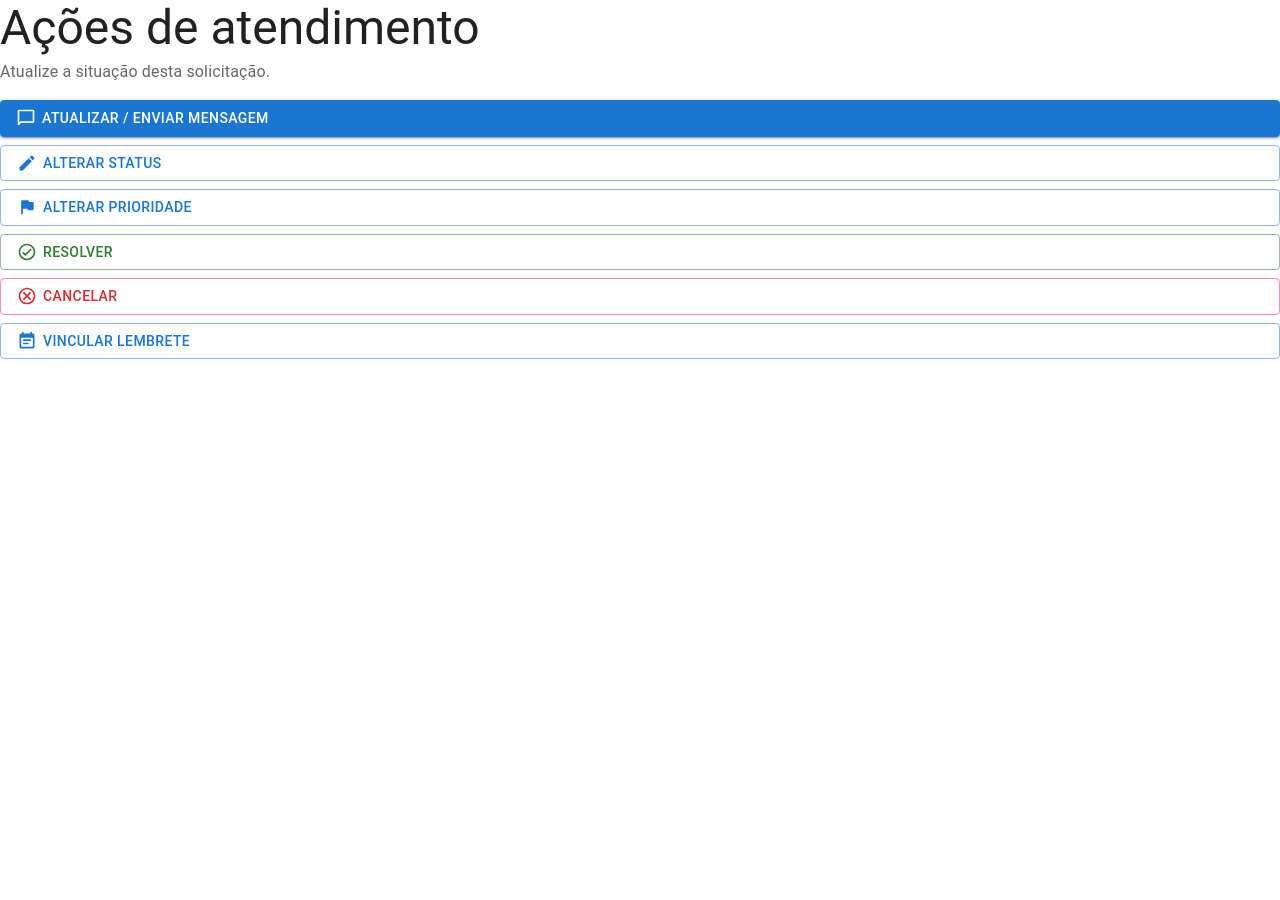
RequestManagementActions AI preview › surfaces a conflict and does not report a successful update
Click the button "Cancelar" at [80, 296], box [0,278,1279,314]
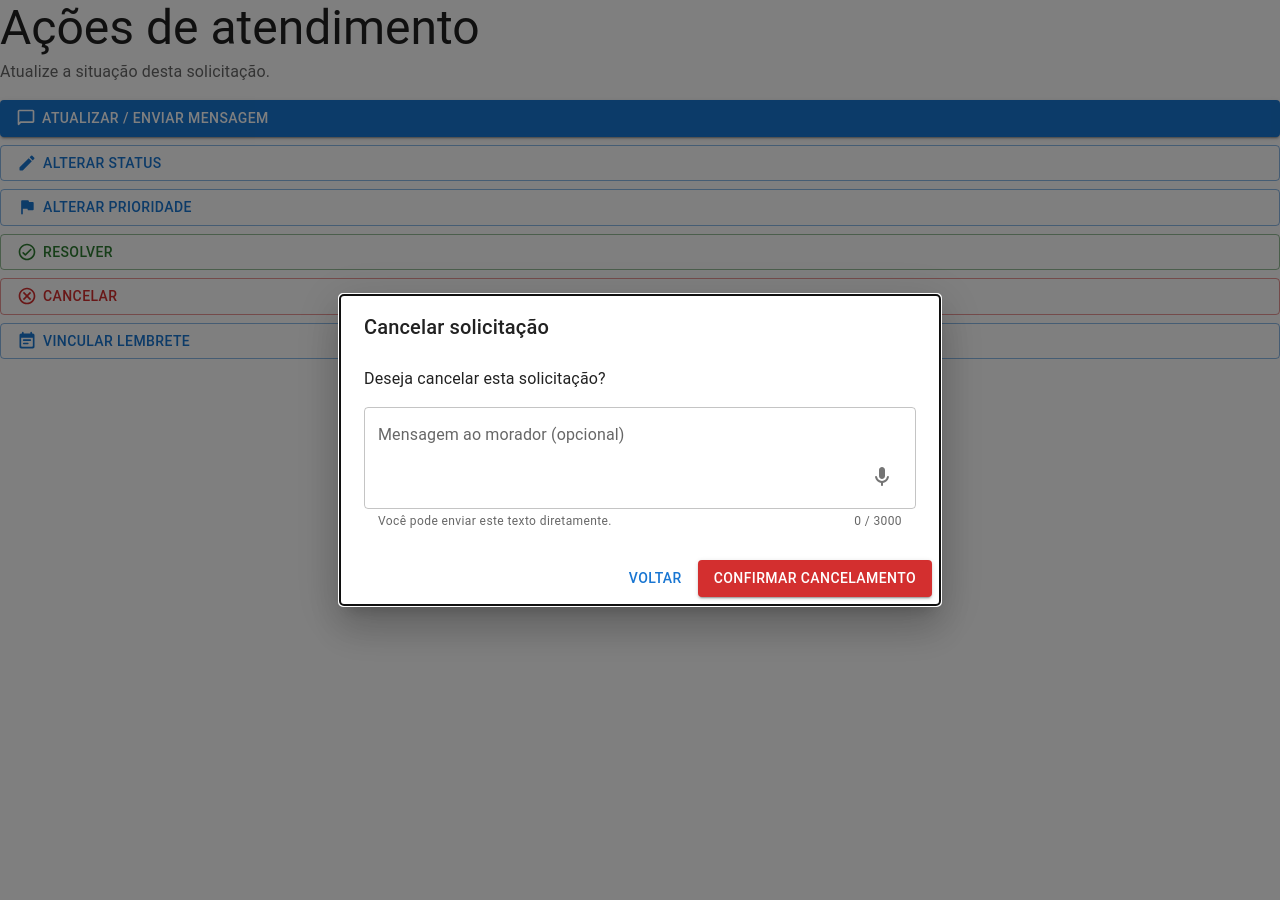
Click the button "Confirmar cancelamento" at [815, 578], box [698,560,932,597]
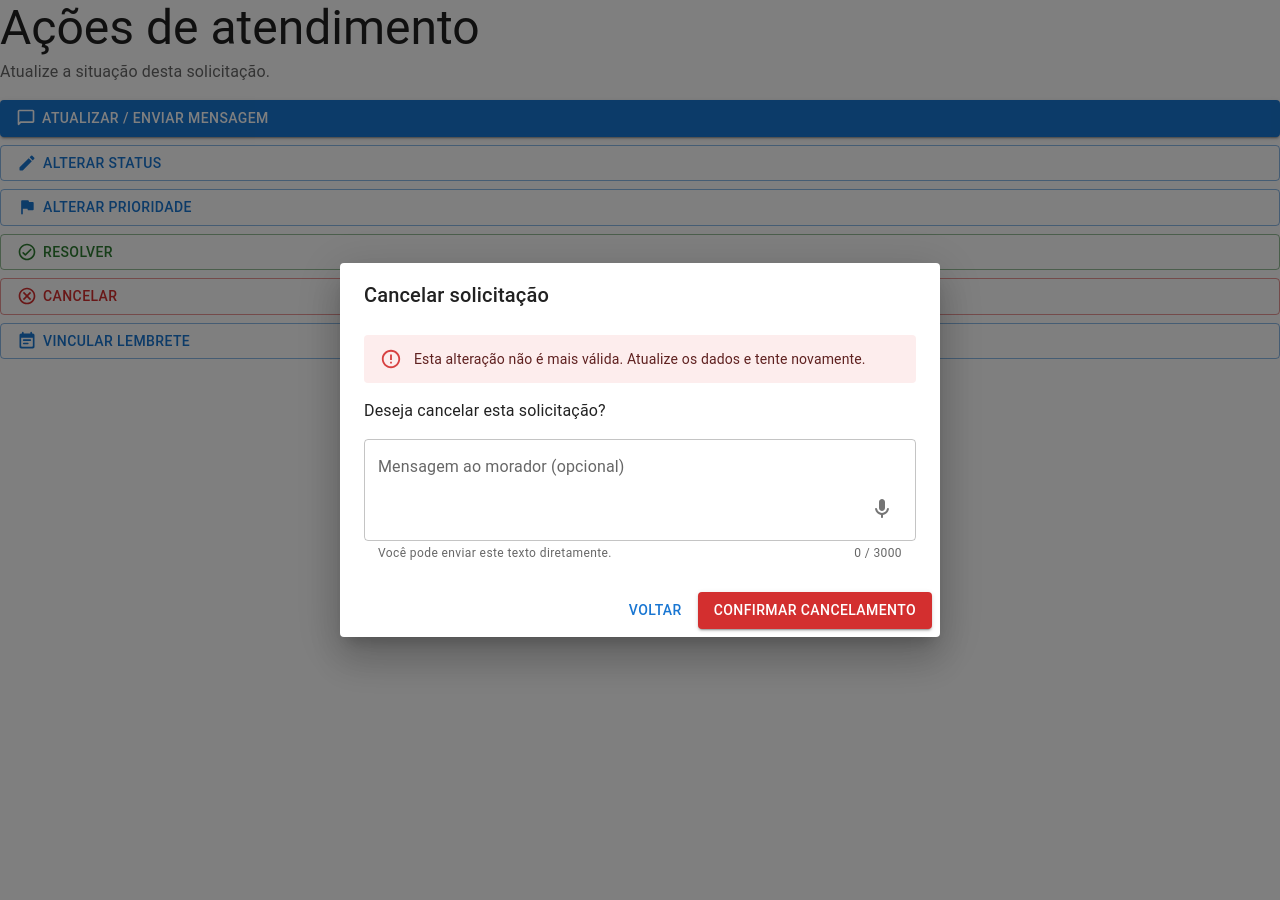
Expected: the text "Esta alteração não é mais válida. Atualize os dados e tente novamente." is shown, [414,351,866,367]
